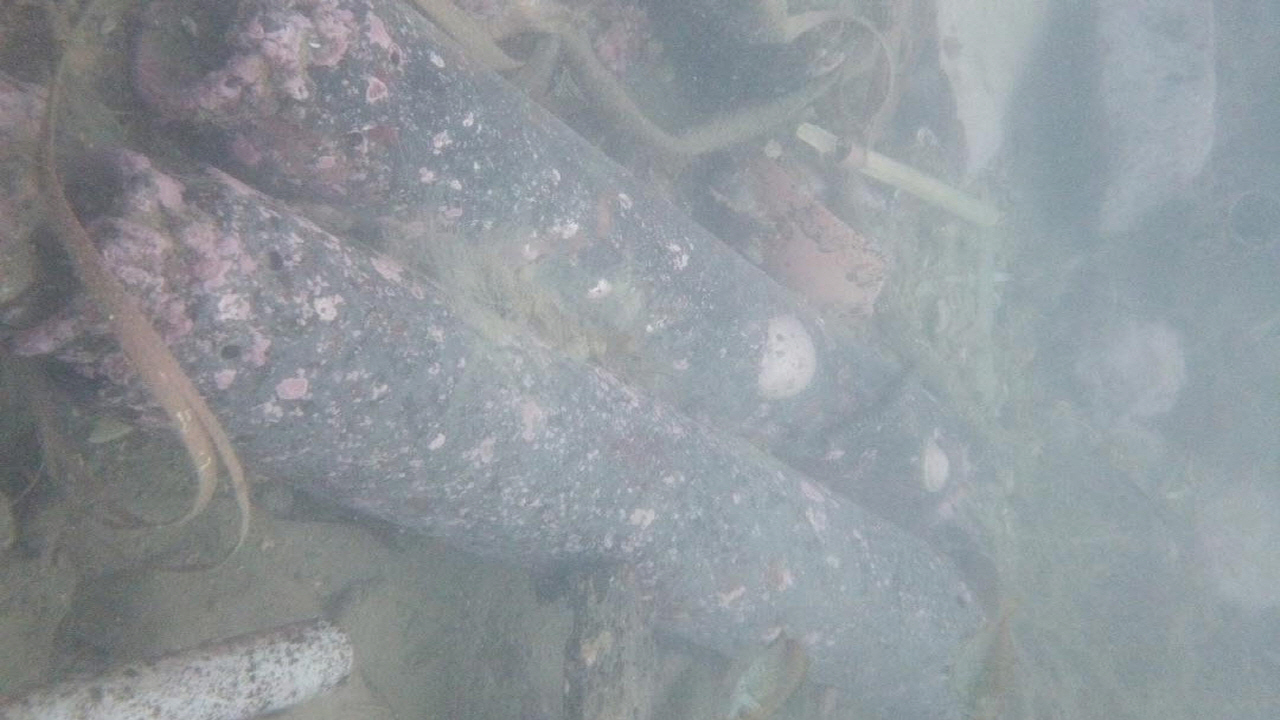eel fish trap: (4, 146, 990, 720), (129, 0, 958, 530)
